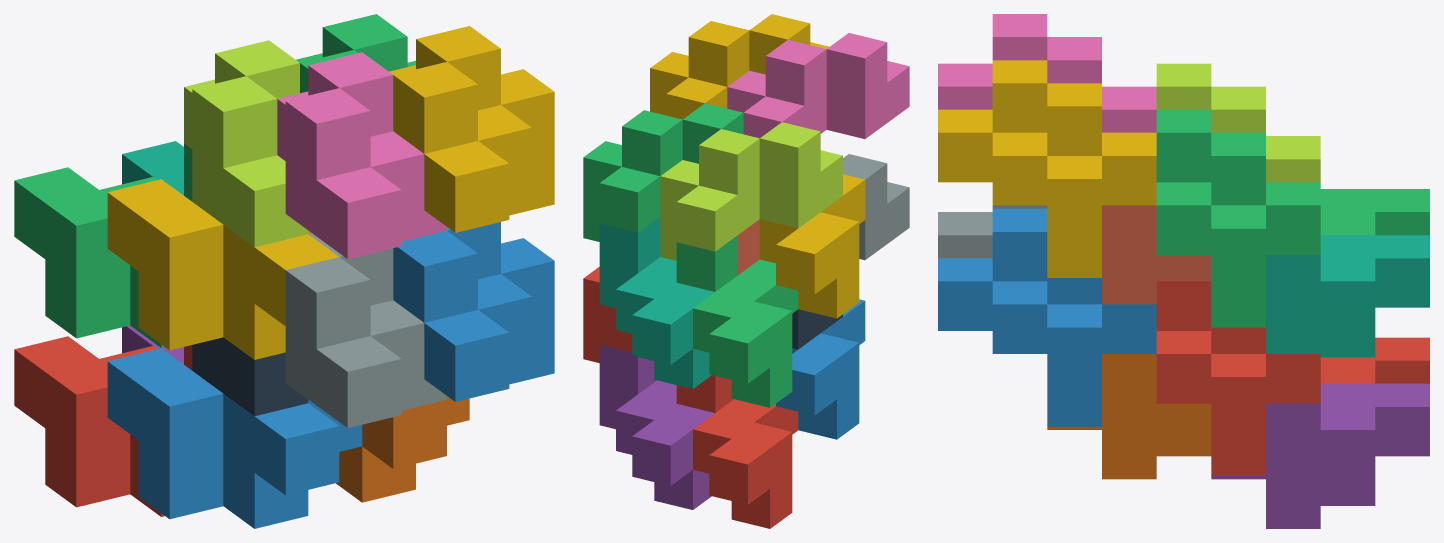
The model's file is tiling.obj.
3 renders of one model, left to right at view 1: azimuth 30°, elevation 25°; view 2: azimuth 150°, elevation 25°; view 3: azimuth 270°, elevation 25°, orthographic. The views are drawn at different scales.
Parts seen in each view (by area): view 1: copy_1_domain_2, copy_2_domain_8, copy_2_domain_4, copy_1_domain_4, copy_2_domain_6, copy_2_domain_2, copy_2_domain_3, copy_1_domain_3, copy_1_domain_1, copy_1_domain_6, copy_2_domain_1, copy_2_domain_7 (+2 smaller); view 2: copy_2_domain_3, copy_2_domain_4, copy_1_domain_3, copy_1_domain_1, copy_1_domain_7, copy_1_domain_5, copy_2_domain_7, copy_1_domain_4, copy_2_domain_8, copy_1_domain_2, copy_2_domain_2, copy_2_domain_5 (+2 smaller); view 3: copy_2_domain_8, copy_2_domain_6, copy_2_domain_7, copy_1_domain_5, copy_2_domain_5, copy_1_domain_7, copy_2_domain_4, copy_1_domain_6, copy_2_domain_3, copy_1_domain_8, copy_1_domain_3, copy_1_domain_1 (+1 smaller).
Boxes of the visible parts, box(x1,y1,x2,y2) form: copy_1_domain_2: box(107, 348, 362, 528); copy_2_domain_8: box(389, 26, 554, 232); copy_2_domain_4: box(277, 52, 446, 258); copy_1_domain_4: box(107, 179, 338, 359); copy_2_domain_6: box(393, 222, 554, 401); copy_2_domain_2: box(285, 233, 446, 427); copy_2_domain_3: box(184, 40, 308, 247); copy_1_domain_3: box(14, 143, 192, 347); copy_1_domain_1: box(14, 336, 192, 516); copy_1_domain_6: box(336, 396, 469, 502); copy_2_domain_1: box(192, 337, 308, 416); copy_2_domain_7: box(296, 14, 415, 93); copy_2_domain_3: box(660, 122, 842, 260); copy_2_domain_4: box(727, 33, 909, 138); copy_1_domain_3: box(676, 235, 798, 407); copy_1_domain_1: box(676, 375, 798, 528); copy_1_domain_7: box(599, 217, 714, 388); copy_1_domain_5: box(599, 344, 714, 509); copy_2_domain_7: box(583, 103, 743, 241); copy_1_domain_4: box(759, 174, 865, 318); copy_2_domain_8: box(650, 14, 829, 119); copy_1_domain_2: box(776, 299, 865, 439); copy_2_domain_2: box(843, 154, 909, 260); copy_2_domain_5: box(583, 267, 632, 362); copy_2_domain_8: box(938, 60, 1156, 277); copy_2_domain_6: box(938, 208, 1156, 426); copy_2_domain_7: box(1156, 109, 1320, 327); copy_1_domain_5: box(1211, 383, 1429, 528); copy_2_domain_5: box(1156, 281, 1320, 475); copy_1_domain_7: box(1266, 235, 1429, 357); copy_2_domain_4: box(938, 14, 1156, 132); copy_1_domain_6: box(1047, 354, 1211, 479); copy_2_domain_3: box(1156, 63, 1320, 182); copy_1_domain_8: box(1102, 205, 1211, 304); copy_1_domain_3: box(1320, 189, 1429, 235); copy_1_domain_1: box(1320, 337, 1429, 383).
Size of the model in its own units: 6 by 9 by 9.
